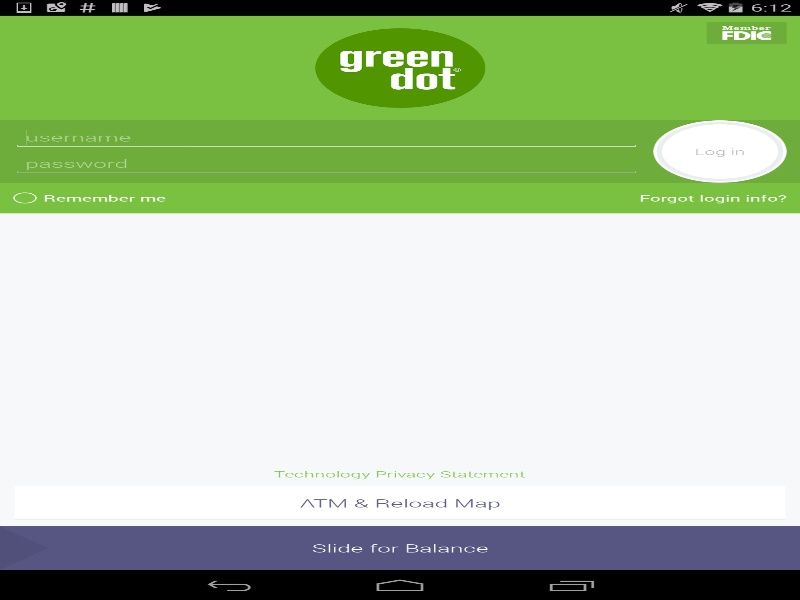Button: (14, 486, 785, 520)
Input: (13, 126, 640, 148), (13, 152, 640, 174)
